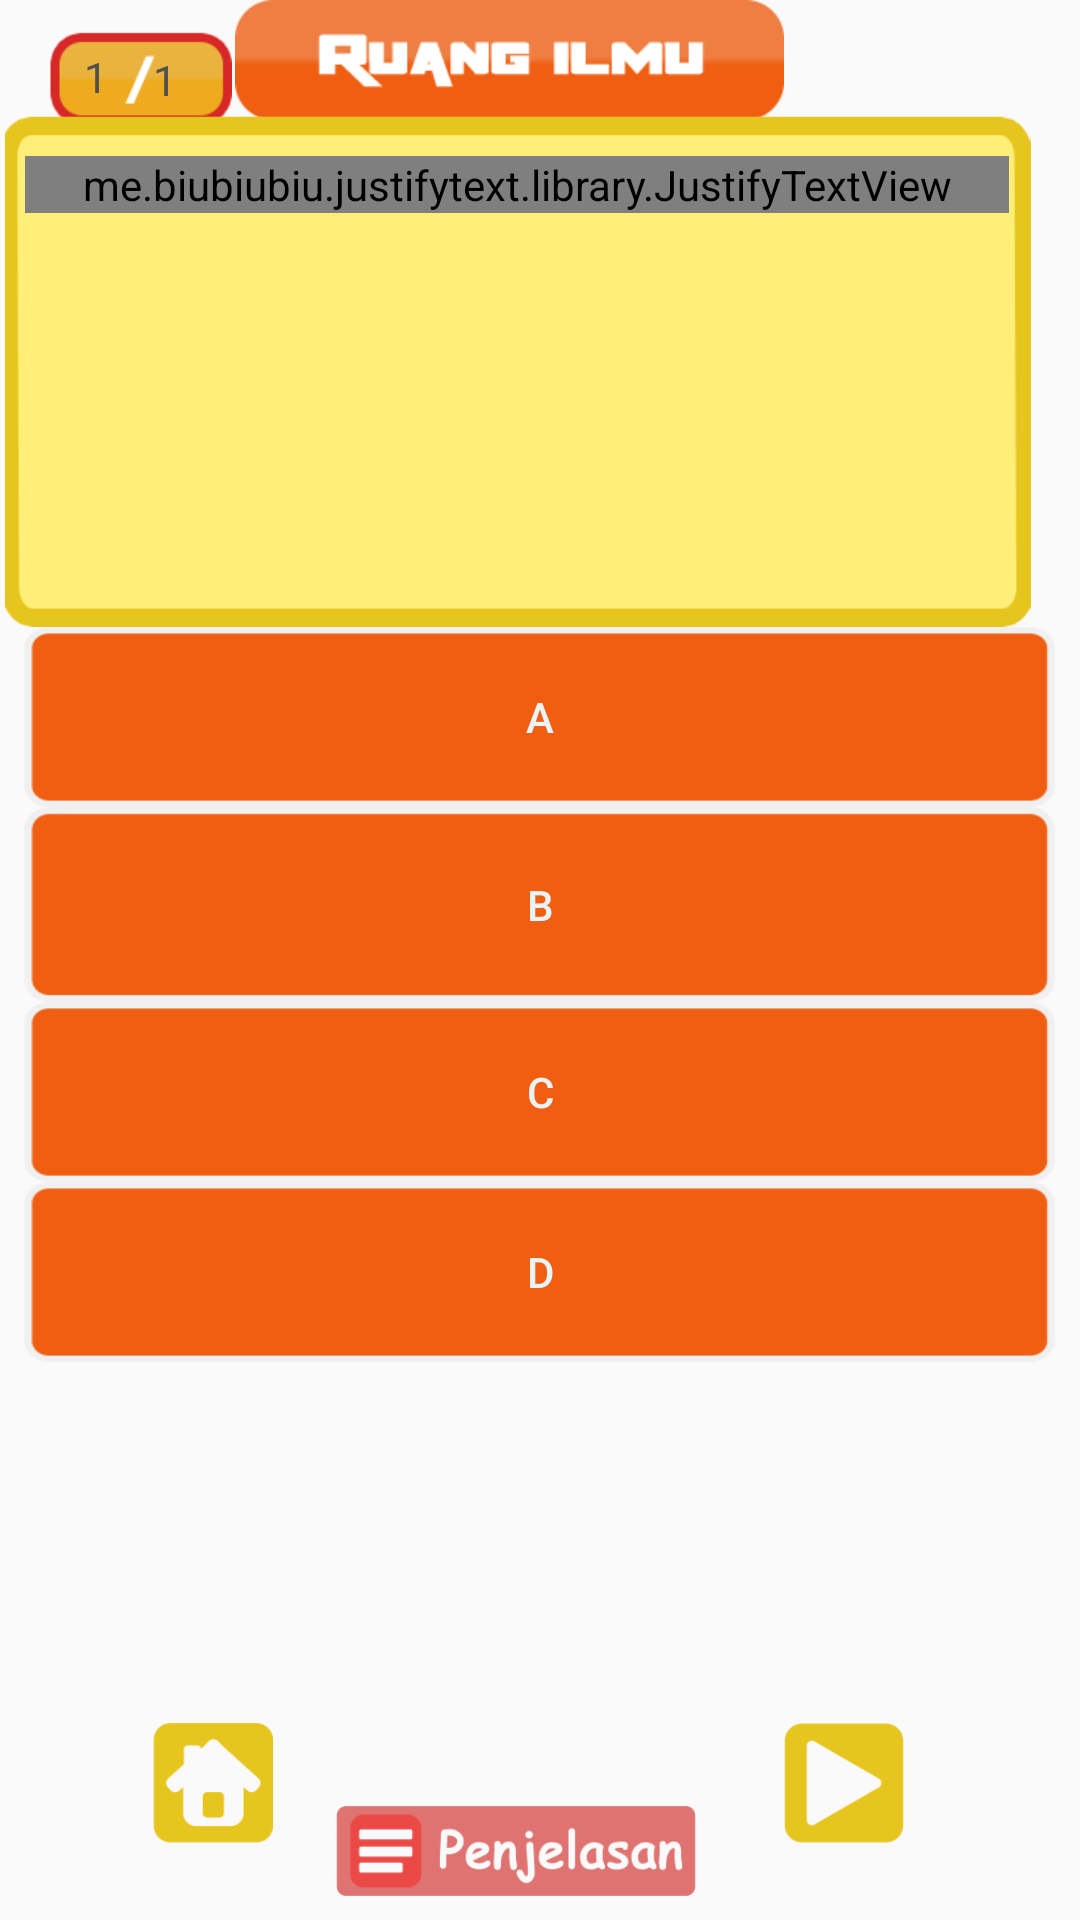

Locate icon controls on the screen. Image size 1080px×1920px, boxes as [x1, y1, x2, y2].
lanjut: [784, 1723, 904, 1843]
rumah: [153, 1723, 273, 1843]
